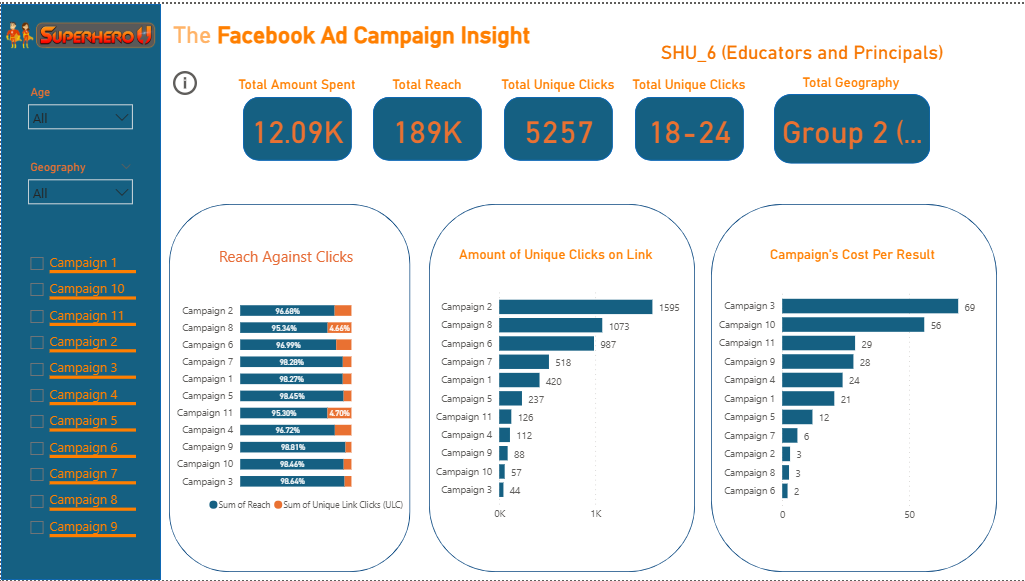

The dashboard page shown, as its layout file describes it:
{"tool":"powerbi","page":{"name":"Page 1","canvas":[1280,720],"ordinal":0},"visuals":[{"type":"shape","box":[0,0,200,720],"z":0},{"type":"group","id":"g1","title":"Group 1","box":[277.5,85.5,184.8,111.4],"z":0,"group":"g6"},{"type":"shape","box":[966,112.9,195.4,87.1],"z":0,"group":"g5"},{"type":"shape","box":[302.5,117.3,136.3,79.6],"z":0,"group":"g1"},{"type":"shape","box":[465.6,117.3,136.3,79.6],"z":0,"group":"g2"},{"type":"shape","box":[628.7,117.3,136.3,79.6],"z":0,"group":"g3"},{"type":"shape","box":[791.9,117.3,136.3,79.6],"z":0,"group":"g4"},{"type":"textbox","box":[929.7,82.5,265.1,37.9],"z":1000,"group":"g5"},{"type":"textbox","box":[277.5,85.5,184.8,37.6],"z":1000,"group":"g1"},{"type":"group","id":"g2","title":"Group 1","box":[440.6,85.5,184.8,111.4],"z":1000,"group":"g6"},{"type":"textbox","box":[440.6,85.5,184.8,37.6],"z":1000,"group":"g2"},{"type":"textbox","box":[603.7,85.5,184.8,37.6],"z":1000,"group":"g3"},{"type":"textbox","box":[766.9,85.5,184.8,37.6],"z":1000,"group":"g4"},{"type":"slicer","fields":{"Values":["Marketing_Data.campaign ID"]},"box":[24.3,302.9,150,394.3],"z":1000},{"type":"shape","box":[887.5,250,357.5,460],"z":1500},{"type":"image","box":[0,15.7,200,44.3],"z":2000},{"type":"group","id":"g3","title":"Group 1","box":[603.7,85.5,185,111.4],"z":2000,"group":"g6"},{"type":"card","fields":{"Values":["Marketing_Data.TopGeography"]},"box":[966,112.9,195.4,87.1],"z":2000,"group":"g5"},{"type":"card","fields":{"Values":["Sum(Marketing_Data.Amount Spent in INR)"]},"box":[302.5,126,136.3,62.2],"z":2000,"group":"g1"},{"type":"card","fields":{"Values":["Sum(Marketing_Data.Reach)"]},"box":[465.6,126,136.3,62.2],"z":2000,"group":"g2"},{"type":"card","fields":{"Values":["Sum(Marketing_Data.Unique Link Clicks (ULC))"]},"box":[628.7,126,136.3,62.2],"z":2000,"group":"g3"},{"type":"card","fields":{"Values":["Marketing_Data.TopAgeGroup"]},"box":[791.9,126,136.3,62.2],"z":2000,"group":"g4"},{"type":"group","id":"g4","title":"Group 1","box":[766.9,85.5,184.5,111.4],"z":3000,"group":"g6"},{"type":"shape","box":[210,250,301.7,460],"z":3000},{"type":"group","id":"g5","title":"Group 1","box":[929.7,82.5,250.3,117.5],"z":4000,"group":"g6"},{"type":"shape","box":[535,250,332.5,460],"z":4000},{"type":"textbox","box":[210,15.7,474.3,44.3],"z":5000},{"type":"card","fields":{"Values":["Min(Marketing_Data.Campaign Name)"]},"box":[722.9,22.9,557.1,74.3],"z":6000},{"type":"hundredPercentStackedBarChart","fields":{"Category":["Marketing_Data.campaign ID"],"Y":["Sum(Marketing_Data.Reach)","Sum(Marketing_Data.Unique Link Clicks (ULC))"]},"box":[210,355.6,346.7,288.9],"z":7000},{"type":"clusteredBarChart","fields":{"Category":["Marketing_Data.campaign ID"],"Y":["Sum(Marketing_Data.Unique Link Clicks (ULC))"]},"box":[534.3,347.1,334.3,307.1],"z":8000},{"type":"textbox","box":[567.5,297.5,267.5,41.2],"z":9000},{"type":"clusteredBarChart","fields":{"Category":["Marketing_Data.campaign ID"],"Y":["Sum(Marketing_Data.Cost per Result (CPR))"]},"box":[887.1,345.7,357.1,310],"z":10000},{"type":"textbox","box":[956.2,297.5,220,41.2],"z":11000},{"type":"slicer","fields":{"Values":["Marketing_Data.Age"]},"box":[24.3,97.1,151.4,67.1],"z":12000},{"type":"slicer","fields":{"Values":["Marketing_Data.Geography"]},"box":[24.3,191.4,151.4,67.1],"z":13000},{"type":"actionButton","box":[210,78.3,41.7,40],"z":14000},{"type":"textbox","box":[267.5,297.5,187.5,41.2],"z":15000},{"type":"group","id":"g6","title":"Group 2","box":[277.5,82.5,902.5,117.5],"z":16000}]}

Visuals, with their boxes in screenshot pixels (x1, y1, x2, y2), scaled from the page's 1280x720 canvas onto the 1025x581 screenshot:
shape: 0,0,160,580
"Group 1" group: 222,69,370,159
shape: 774,91,930,161
shape: 242,95,351,159
shape: 373,95,482,159
shape: 503,95,613,159
shape: 634,95,743,159
textbox: 744,67,957,97
textbox: 222,69,370,99
"Group 1" group: 353,69,501,159
textbox: 353,69,501,99
textbox: 483,69,631,99
textbox: 614,69,762,99
slicer - Marketing_Data.campaign ID: 19,244,140,563
shape: 711,202,997,573
image: 0,13,160,48
"Group 1" group: 483,69,632,159
card - Marketing_Data.TopGeography: 774,91,930,161
card - Sum(Marketing_Data.Amount Spent in INR): 242,102,351,152
card - Sum(Marketing_Data.Reach): 373,102,482,152
card - Sum(Marketing_Data.Unique Link Clicks (ULC)): 503,102,613,152
card - Marketing_Data.TopAgeGroup: 634,102,743,152
"Group 1" group: 614,69,762,159
shape: 168,202,410,573
"Group 1" group: 744,67,945,161
shape: 428,202,695,573
textbox: 168,13,548,48
card - Min(Marketing_Data.Campaign Name): 579,18,1024,78
hundredPercentStackedBarChart - Marketing_Data.campaign ID x Sum(Marketing_Data.Reach): 168,287,446,520
clusteredBarChart - Marketing_Data.campaign ID x Sum(Marketing_Data.Unique Link Clicks (ULC)): 428,280,696,528
textbox: 454,240,669,273
clusteredBarChart - Marketing_Data.campaign ID x Sum(Marketing_Data.Cost per Result (CPR)): 710,279,996,529
textbox: 766,240,942,273
slicer - Marketing_Data.Age: 19,78,141,133
slicer - Marketing_Data.Geography: 19,154,141,209
actionButton: 168,63,202,95
textbox: 214,240,364,273
"Group 2" group: 222,67,945,161
